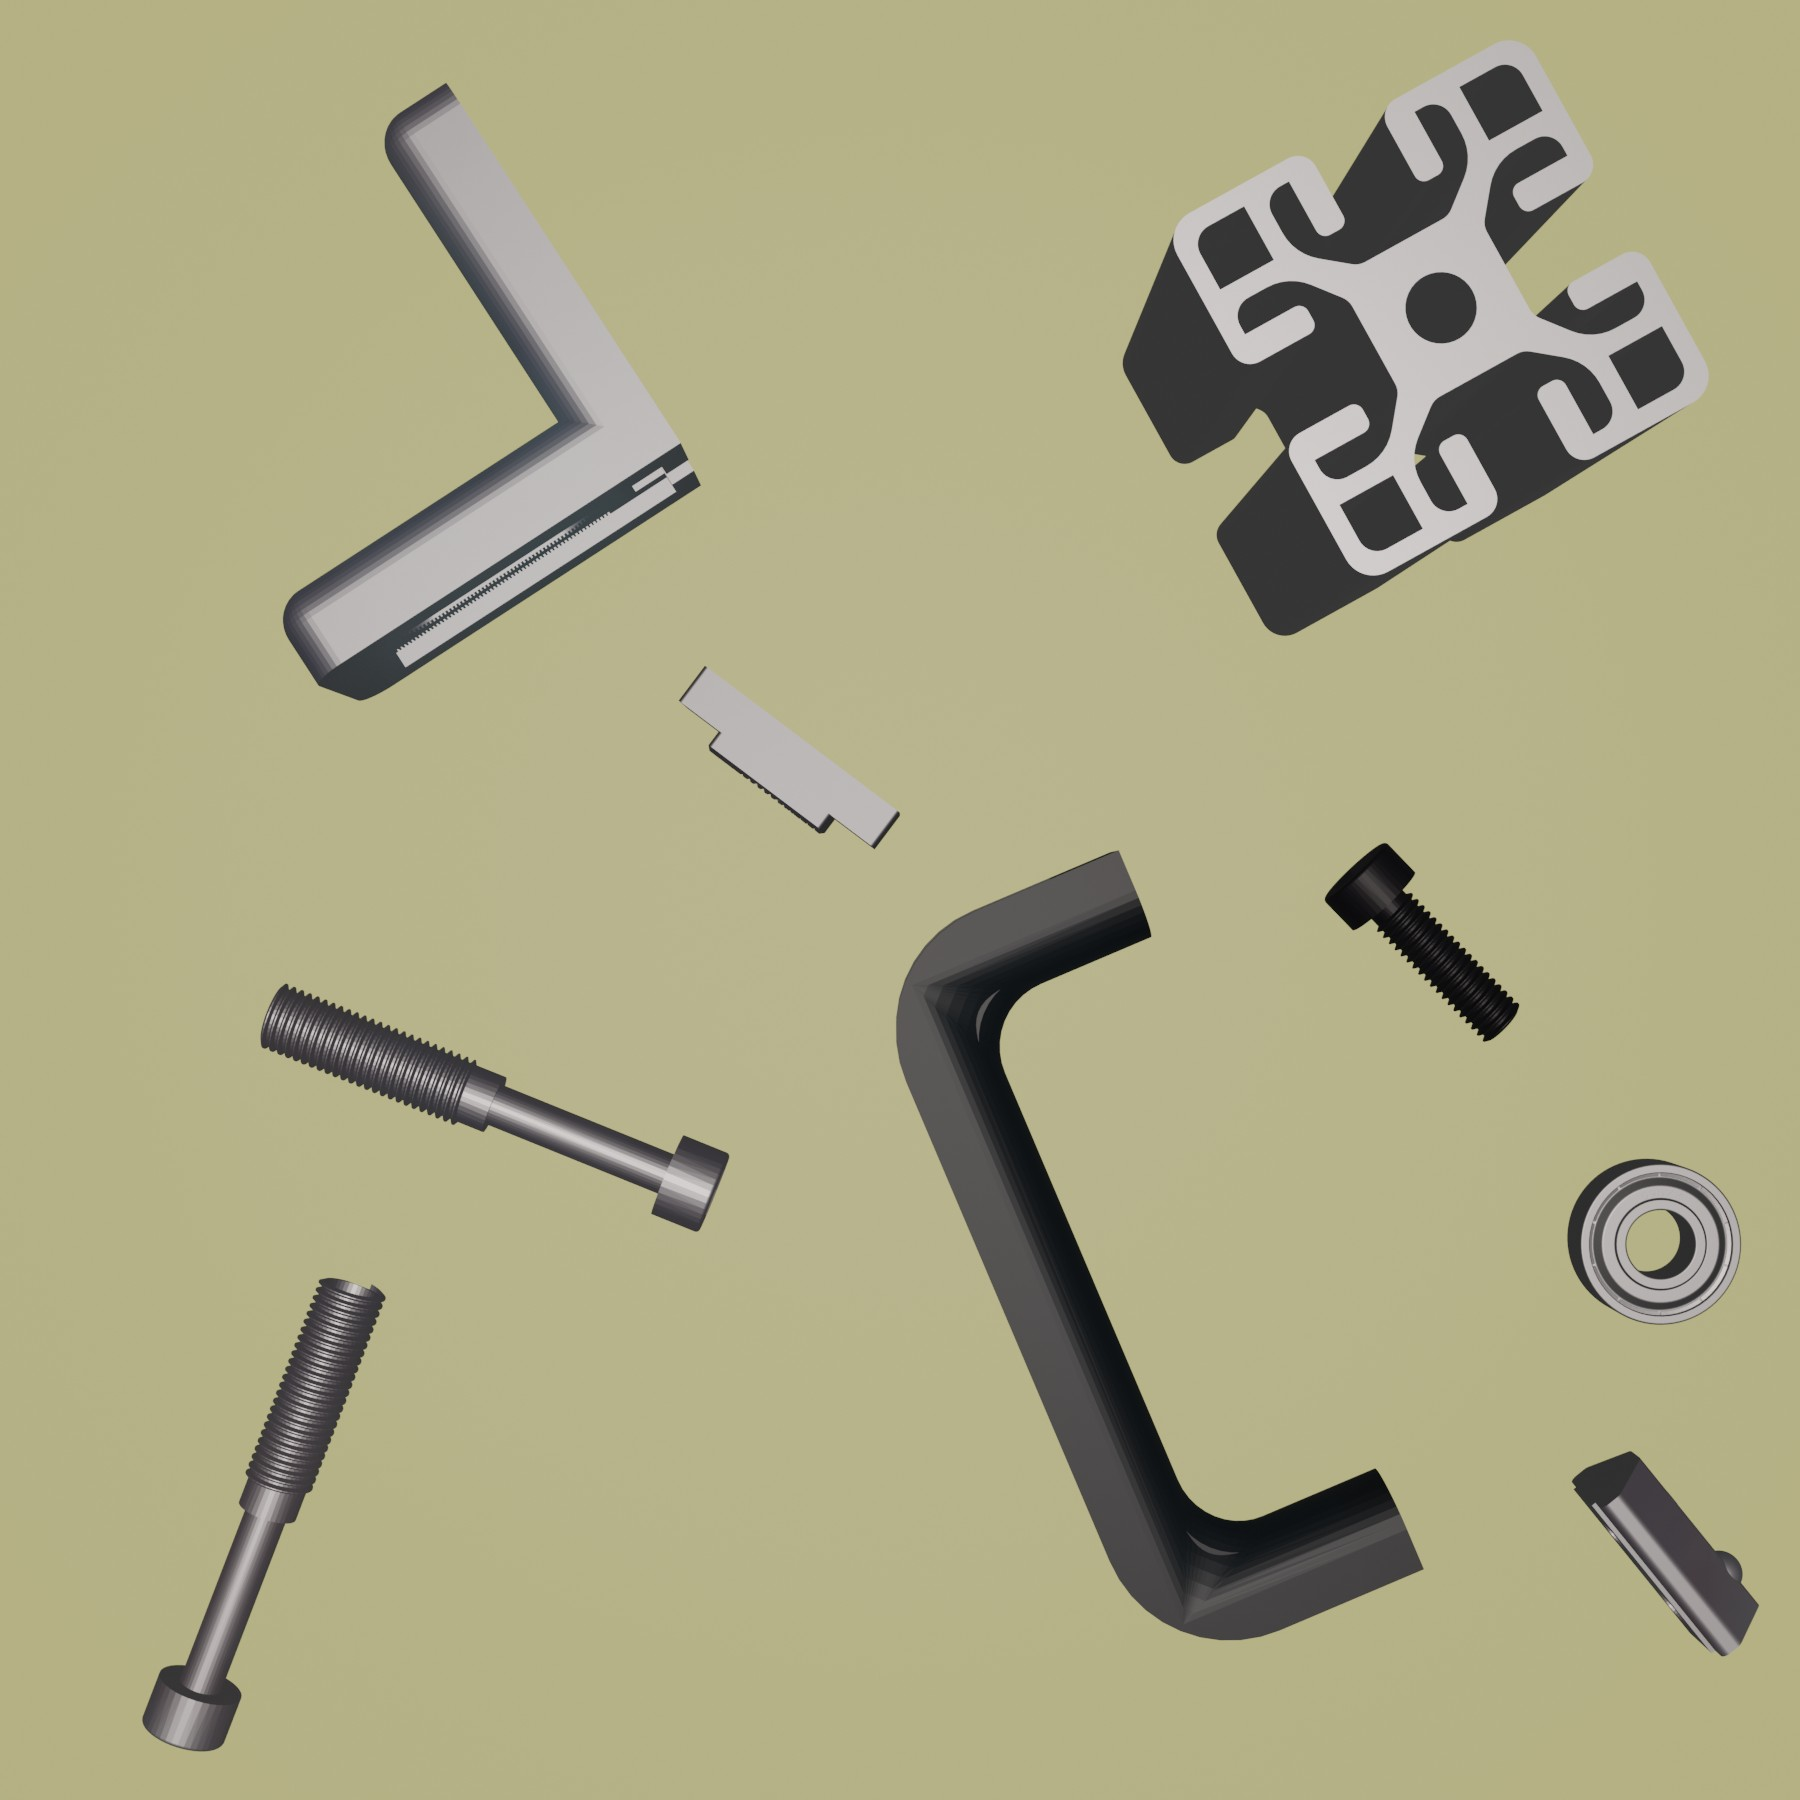Aluminium Extension: (1118, 38, 1714, 640)
Ball Bearing: (1568, 1157, 1747, 1330)
Multiwinkel: (279, 77, 704, 705)
Pull Handle: (892, 846, 1424, 1647)
Shoulder Socket Head Cap Screw: (254, 981, 730, 1238), (138, 1269, 389, 1754)
Socket Head Cap Screw: (1320, 837, 1525, 1047)
T Nut Square: (673, 658, 903, 855)
T Spring Nut: (1569, 1447, 1762, 1662)
